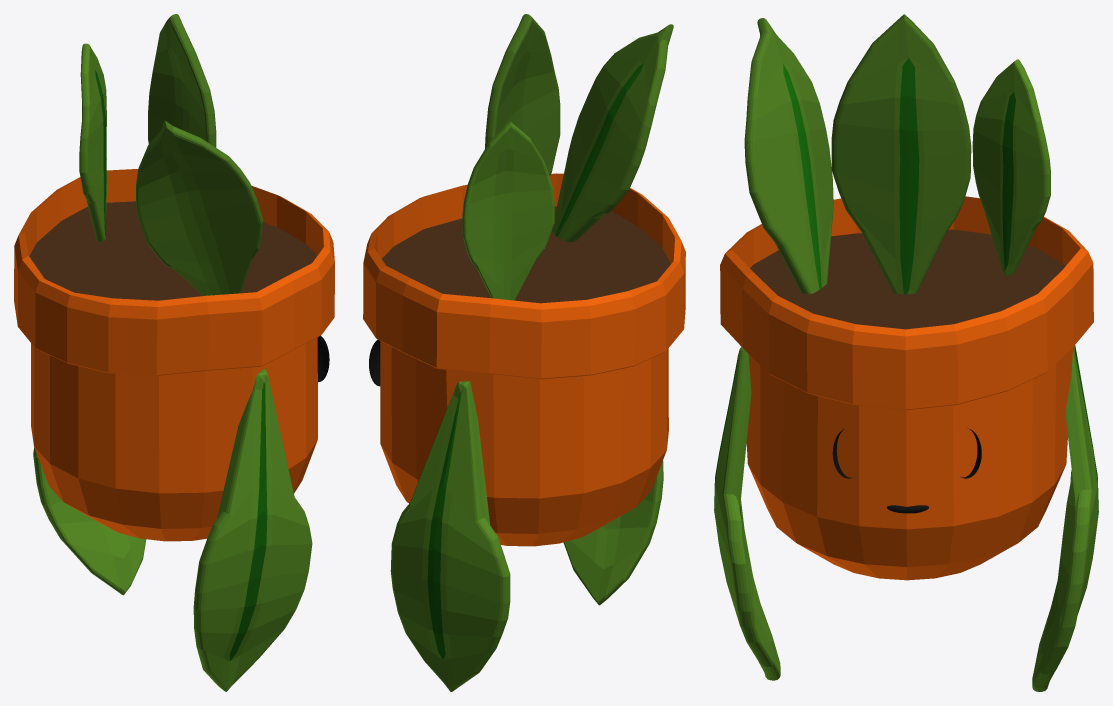
File: macetonio (1).fbx
The picture shows the model from 3 angles, left to right: view 1: azimuth 30°, elevation 25°; view 2: azimuth 150°, elevation 25°; view 3: azimuth 270°, elevation 25°; orthographic projection. The views are drawn at different scales.
Visible parts, largest first — view 1: Cube.002; view 2: Cube.002; view 3: Cube.002.
Boxes of the visible parts, x1,y1,x2,y2 form: Cube.002: [14, 14, 334, 691]; Cube.002: [363, 14, 685, 691]; Cube.002: [714, 14, 1098, 691].
Bounding box in the file's own units: 312 × 670 × 347.
Materials: 4 (4 with a texture image).
